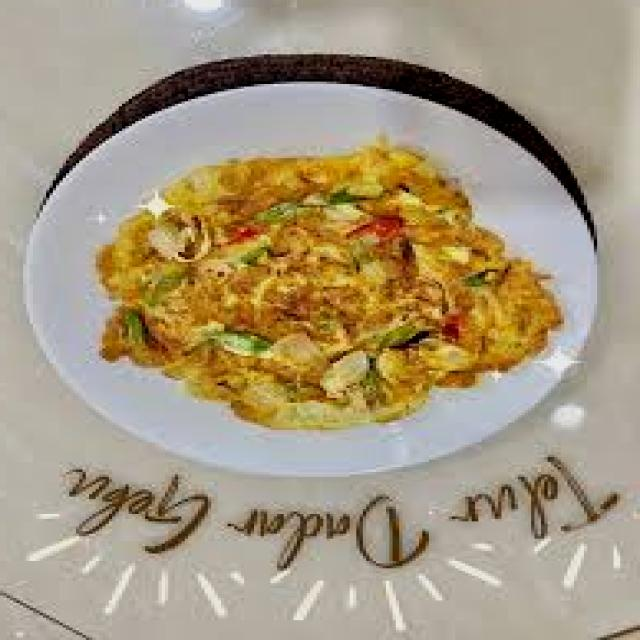telur dadar: (96, 131, 564, 435)
